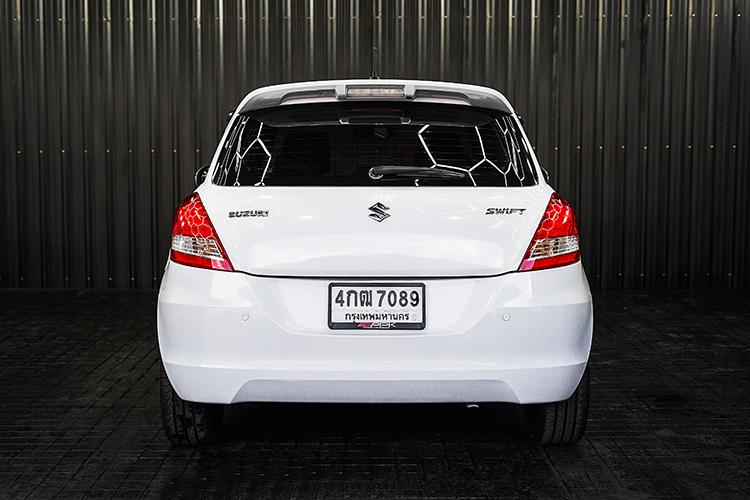license-plate: (326, 281, 429, 334)
